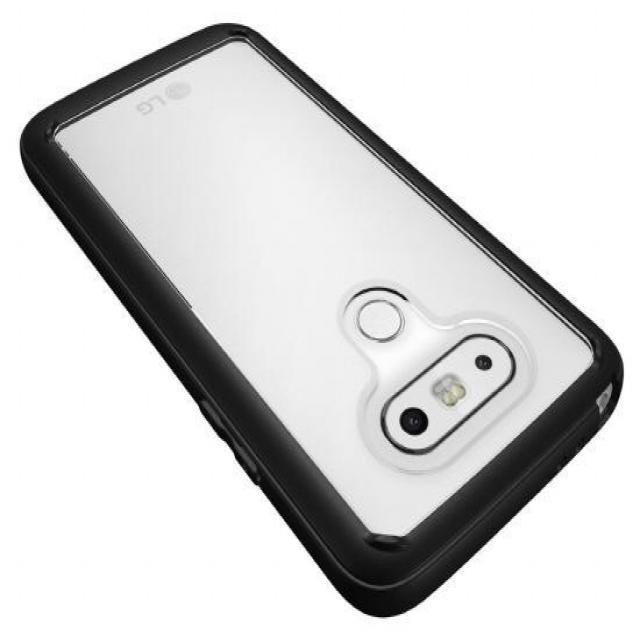lens: (369, 323, 521, 470)
phone: (21, 19, 626, 617)
